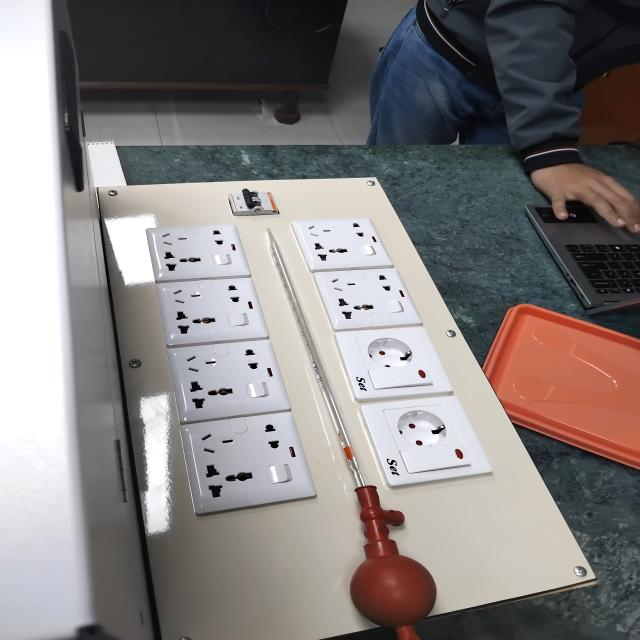Volumetric_Pipet: (232, 216, 477, 640)
